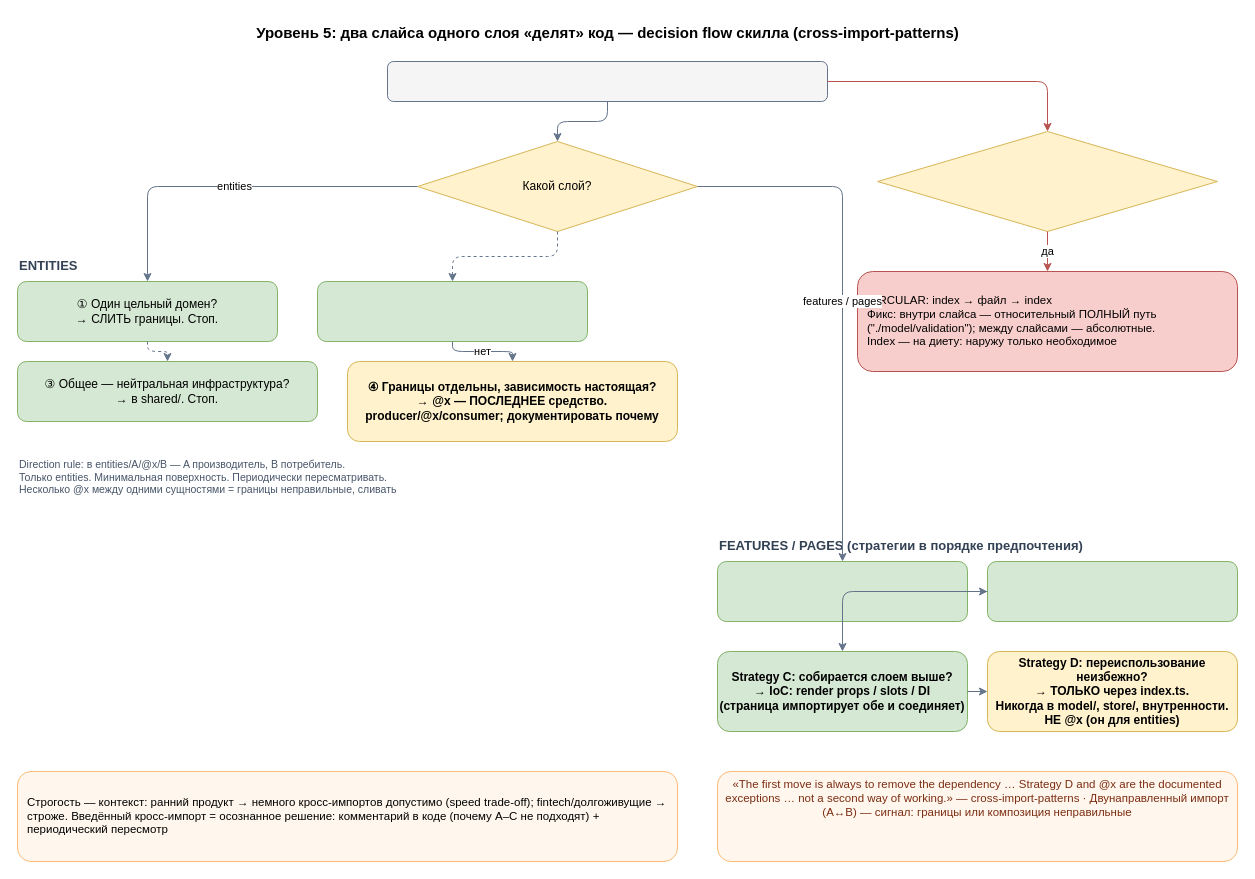
The diagram is 1255 pixels wide and 879 high, and some of its shapes have lost their labels. The shapes that lost their labels are listed below. From the top down, each one's centre as x and y in pixels, then its label:
point (607, 81): Импорт между слайсами ОДНОГО слоя (pages/features/entities)
point (1047, 181): Импорт из index СВОЕГО слайса ("../")?
point (452, 311): ② Может, страницу/фичу держать обе? → КОМПОЗИЦИЯ выше. Стоп.
point (842, 591): Strategy A: всегда меняются вместе? → merge в один слайс
point (1112, 591): Strategy B: общее — доменное правило? → в entities (UI остаётся в фиче)
